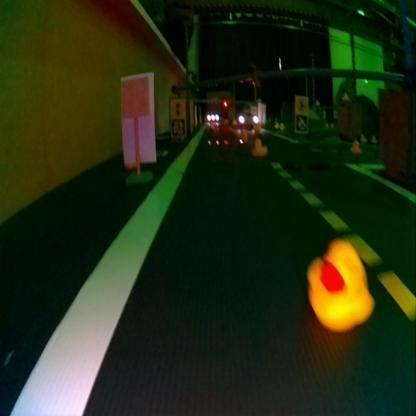Duckie: (309, 241, 370, 325), (255, 138, 266, 156), (350, 140, 362, 154)
Intersection sign: (296, 97, 306, 110)
QR code: (172, 118, 184, 132), (296, 114, 306, 130)
Signal sign: (170, 100, 184, 113)
